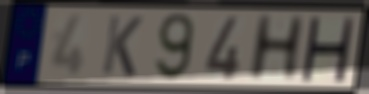4: (47, 12, 89, 79), (202, 14, 242, 82)
9: (151, 12, 197, 83)
H: (245, 13, 308, 83), (298, 15, 357, 84)
K: (99, 13, 145, 79)
